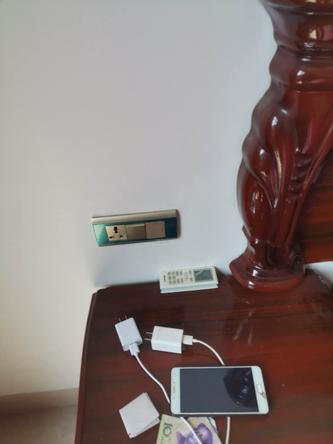switch: (145, 219, 171, 241), (124, 223, 144, 241)
